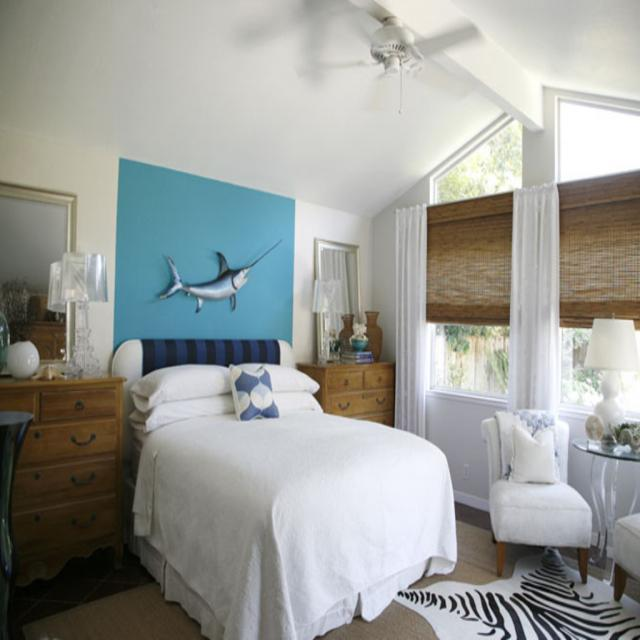Bulb: (295, 0, 487, 114)
